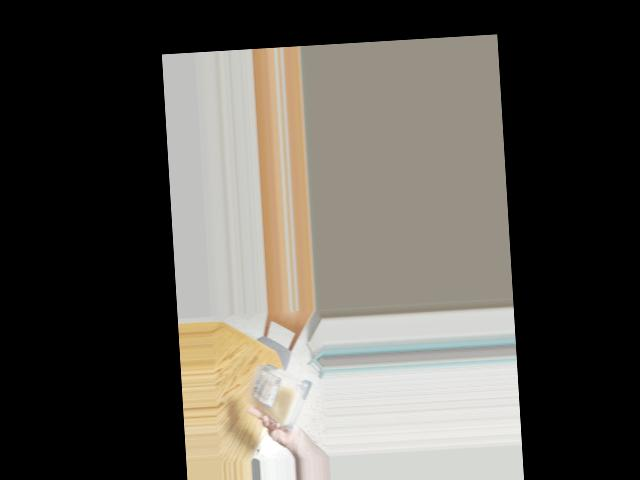cheese: (249, 364, 302, 427)
